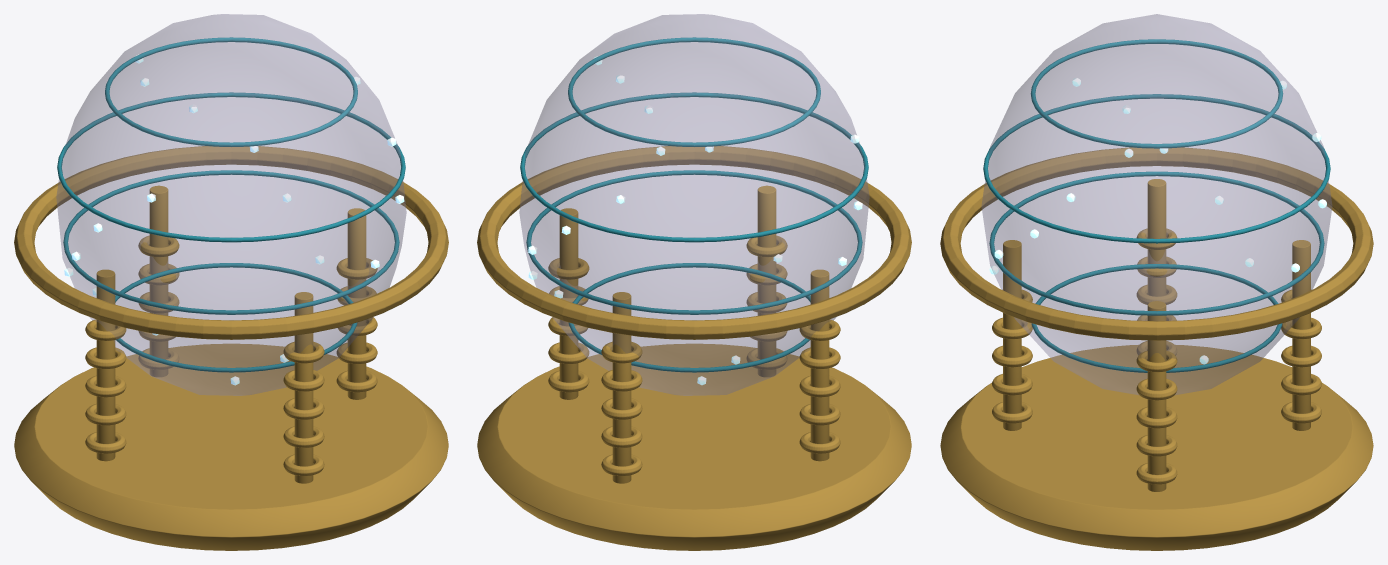
3 renders of one model, left to right at view 1: azimuth 30°, elevation 25°; view 2: azimuth 150°, elevation 25°; view 3: azimuth 270°, elevation 25°, orthographic.
Visible parts, largest first — view 1: TI058 / separate globe, TI058 / gold stand foot, TI058 / equatorial stand, TI058 / holographic latitude.002, TI058 / holographic latitude.001, TI058 / holographic latitude.003, TI058 / holographic latitude, TI058 / turned stand pillar.003, TI058 / turned stand pillar.002, TI058 / turned stand pillar, TI058 / turned stand pillar.001, TI058 / pillar spiral collar.019 (+11 smaller); view 2: TI058 / separate globe, TI058 / gold stand foot, TI058 / equatorial stand, TI058 / holographic latitude.002, TI058 / holographic latitude.001, TI058 / holographic latitude.003, TI058 / holographic latitude, TI058 / turned stand pillar.001, TI058 / turned stand pillar.002, TI058 / turned stand pillar.003, TI058 / turned stand pillar, TI058 / pillar spiral collar.009 (+12 smaller); view 3: TI058 / separate globe, TI058 / gold stand foot, TI058 / equatorial stand, TI058 / holographic latitude.002, TI058 / holographic latitude.001, TI058 / holographic latitude.003, TI058 / holographic latitude, TI058 / turned stand pillar, TI058 / turned stand pillar.003, TI058 / turned stand pillar.001, TI058 / turned stand pillar.002, TI058 / pillar spiral collar.002 (+12 smaller).
Part boxes in pixels (box(x1,y1,x2,y2)): TI058 / separate globe: box(56, 14, 406, 395); TI058 / gold stand foot: box(14, 343, 448, 550); TI058 / equatorial stand: box(14, 146, 448, 339); TI058 / holographic latitude.002: box(57, 92, 405, 242); TI058 / holographic latitude.001: box(63, 170, 399, 314); TI058 / holographic latitude.003: box(105, 37, 357, 146); TI058 / holographic latitude: box(115, 263, 357, 372); TI058 / turned stand pillar.003: box(294, 292, 313, 483); TI058 / turned stand pillar.002: box(96, 269, 115, 461); TI058 / turned stand pillar: box(347, 208, 366, 399); TI058 / turned stand pillar.001: box(149, 185, 168, 377); TI058 / pillar spiral collar.019: box(283, 341, 324, 363); TI058 / separate globe: box(519, 14, 869, 395); TI058 / gold stand foot: box(477, 343, 911, 550); TI058 / equatorial stand: box(477, 146, 911, 339); TI058 / holographic latitude.002: box(520, 92, 868, 242); TI058 / holographic latitude.001: box(526, 170, 862, 314); TI058 / holographic latitude.003: box(568, 37, 820, 146); TI058 / holographic latitude: box(568, 263, 810, 372); TI058 / turned stand pillar.001: box(612, 292, 631, 483); TI058 / turned stand pillar.002: box(810, 269, 829, 461); TI058 / turned stand pillar.003: box(757, 185, 776, 377); TI058 / turned stand pillar: box(559, 208, 578, 399); TI058 / pillar spiral collar.009: box(601, 341, 642, 363); TI058 / separate globe: box(981, 14, 1332, 395); TI058 / gold stand foot: box(940, 345, 1373, 550); TI058 / equatorial stand: box(940, 147, 1373, 340); TI058 / holographic latitude.002: box(983, 94, 1330, 243); TI058 / holographic latitude.001: box(989, 171, 1324, 315); TI058 / holographic latitude.003: box(1030, 39, 1283, 148); TI058 / holographic latitude: box(1031, 264, 1282, 372); TI058 / turned stand pillar: box(1147, 301, 1166, 491); TI058 / turned stand pillar.003: box(1003, 240, 1021, 430); TI058 / turned stand pillar.001: box(1292, 240, 1310, 430); TI058 / turned stand pillar.002: box(1147, 179, 1166, 296); TI058 / pillar spiral collar.002: box(1136, 407, 1177, 428).
Size of the model in its own units: 2.1 by 2.35 by 2.1.
